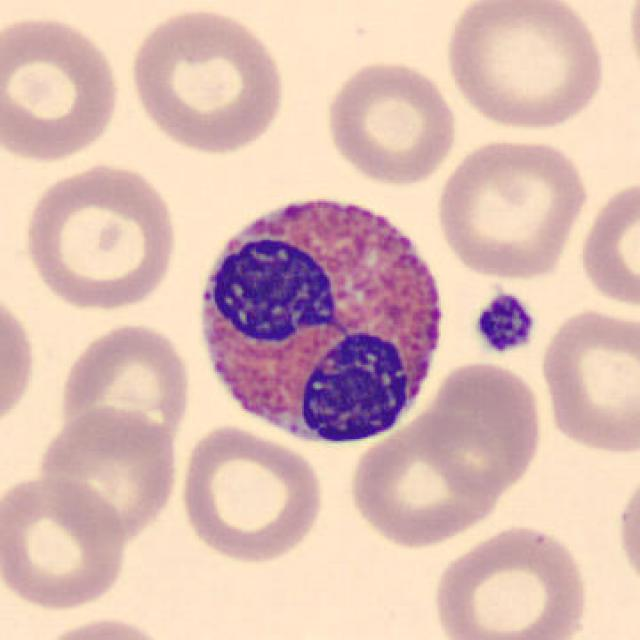Eosinophil: (187, 176, 455, 458)
Platelets: (471, 291, 539, 356)
RBC: (18, 159, 183, 314), (124, 4, 290, 155), (430, 134, 592, 282), (345, 409, 510, 548), (441, 0, 610, 132), (174, 421, 327, 566), (34, 404, 183, 543), (428, 520, 594, 640), (0, 9, 124, 166), (54, 319, 195, 457), (0, 471, 130, 614), (320, 56, 460, 187), (420, 358, 546, 497), (535, 304, 640, 458), (576, 173, 638, 314), (0, 280, 39, 439), (26, 613, 179, 640), (611, 462, 640, 603), (624, 2, 640, 98)
